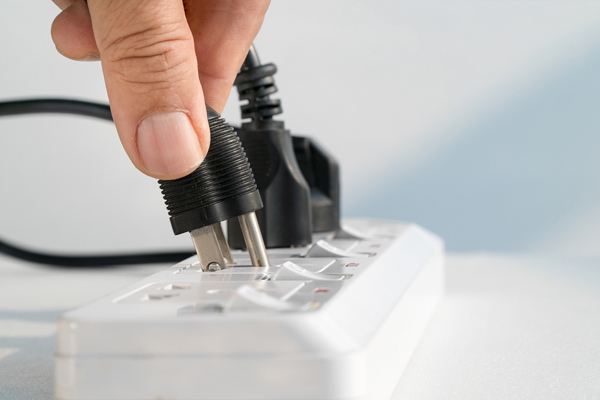Three_eye_plug: (46, 211, 449, 400)
